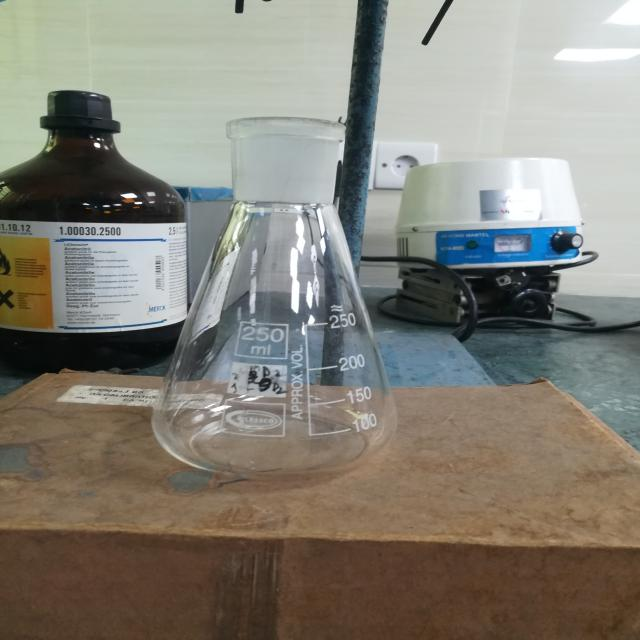Conical_Flask: (129, 66, 442, 506)
